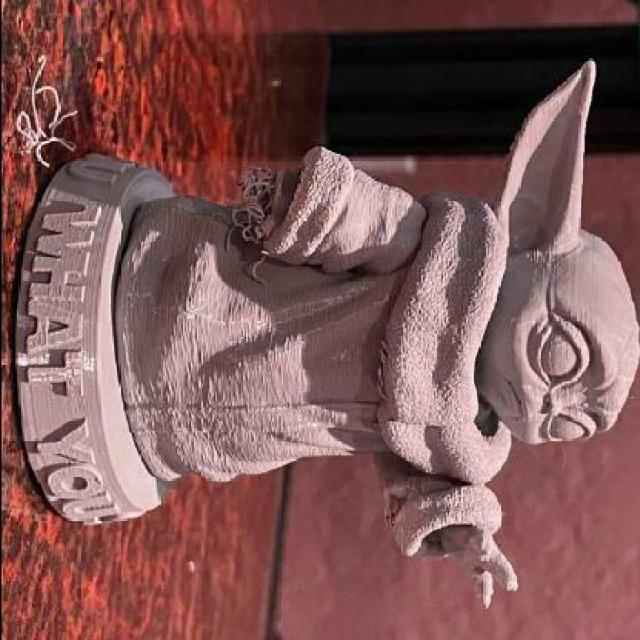Spaghetti: (9, 51, 83, 195), (227, 164, 290, 251)
